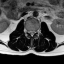CCS_normal: (31, 27, 33, 39)
LFS_normal: (35, 28, 37, 34)
LLS_normal: (33, 27, 35, 36)
RFS_stenosis: (26, 27, 28, 34)
RLS_normal: (28, 27, 31, 36)
